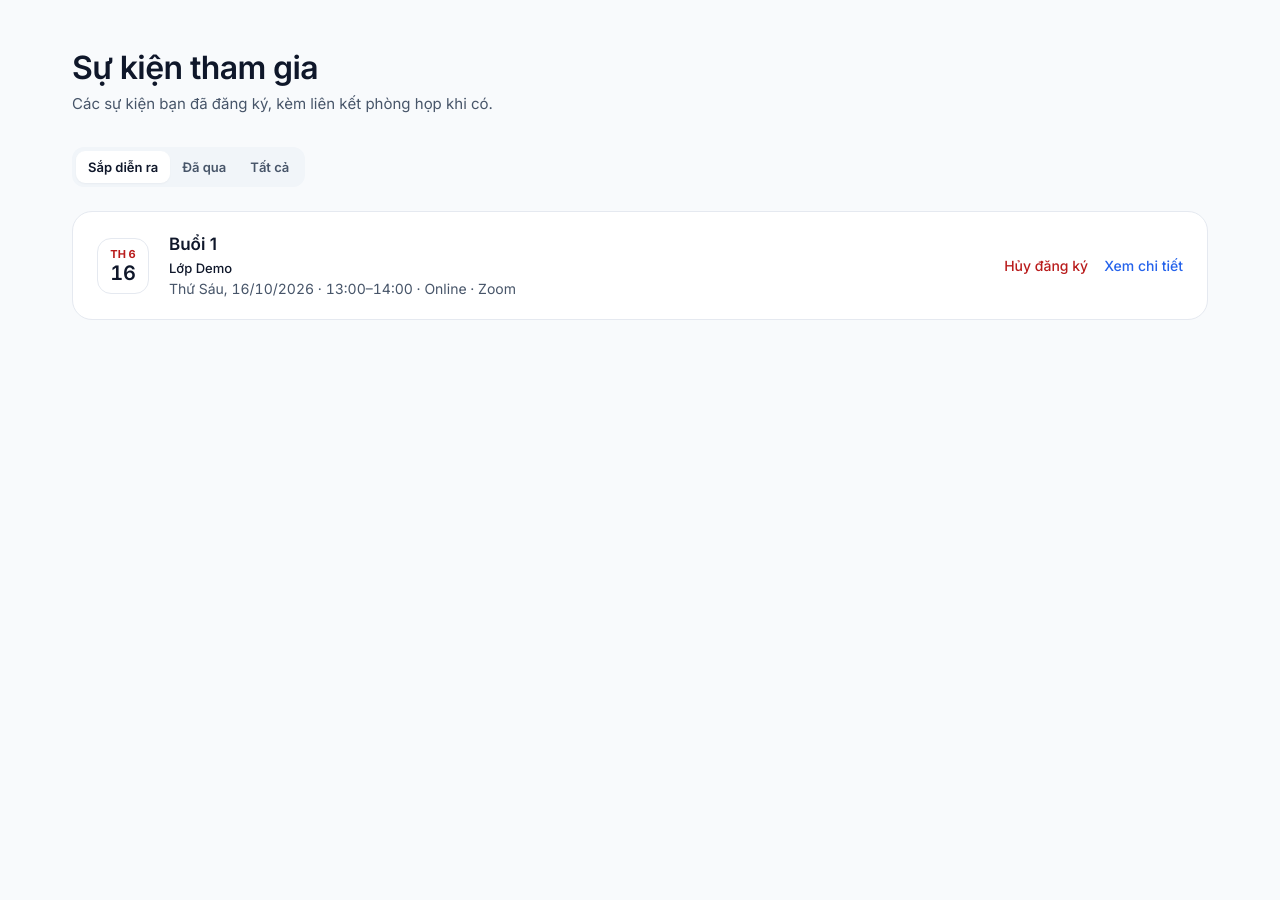
MyEventsPage › keeps the event and shows the reason when cancelling fails
The width and height of the screenshot is (1280, 900).
Step 1. Click the button with aria-label "Hủy đăng ký Buổi 1" → [1046, 266], box [1004,256,1088,276]
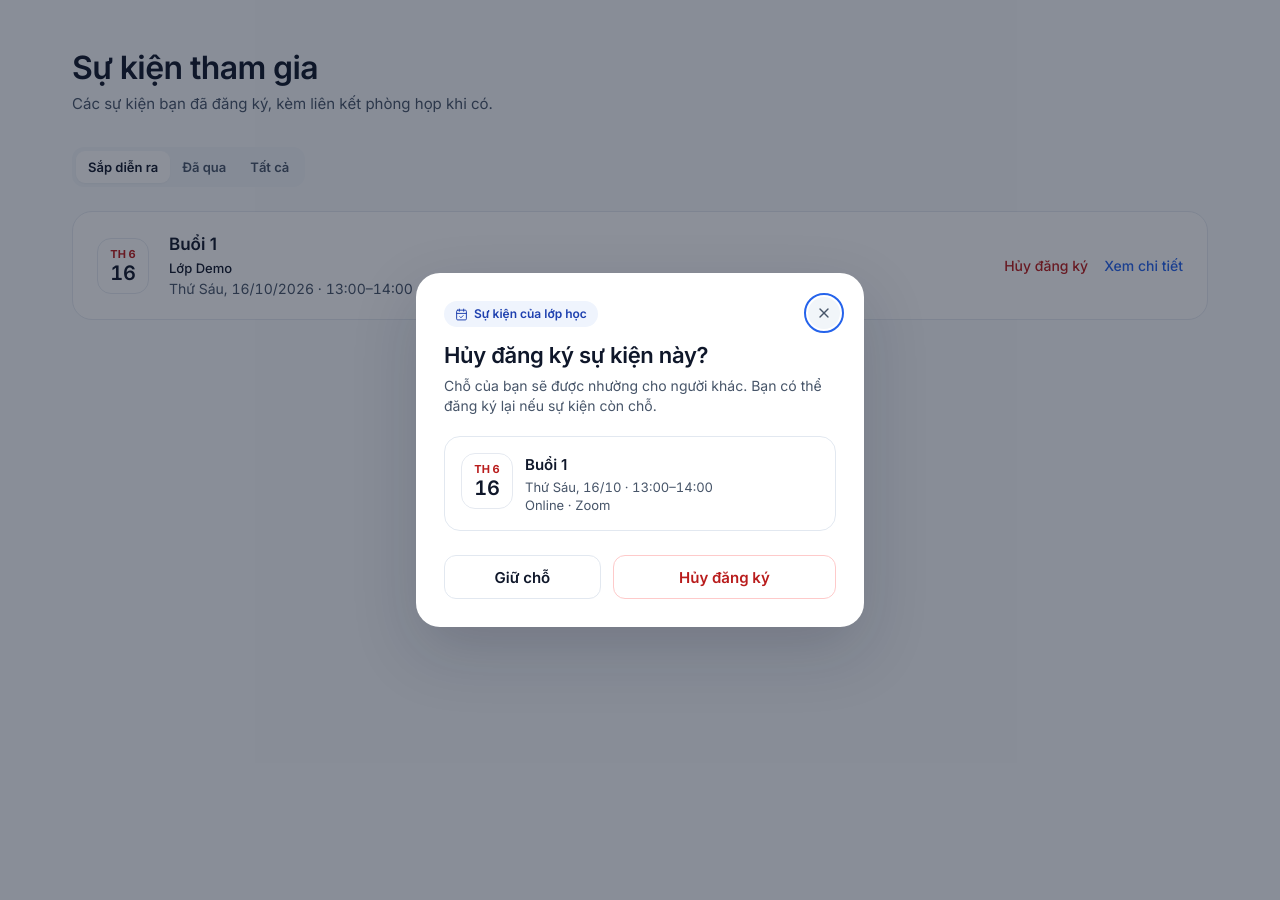
Step 2. Click the button "Hủy đăng ký" → [724, 577], box [613,555,836,599]
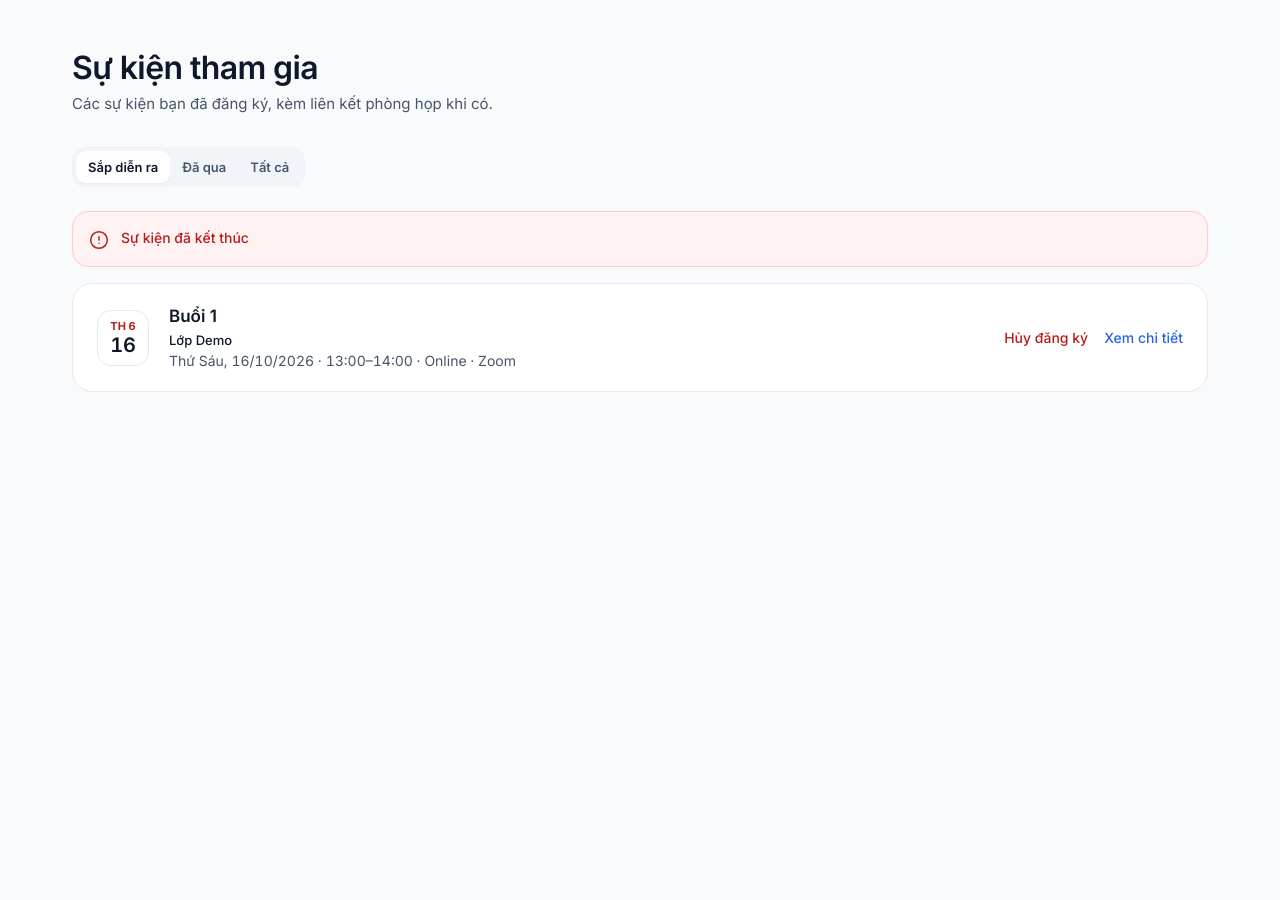
Check: the link "Buổi 1" is shown, box [169,306,217,326]
Check: the message reads "Sự kiện đã kết thúc", box [121,229,249,246]
